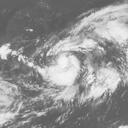cyclone: (33, 38, 101, 93)
